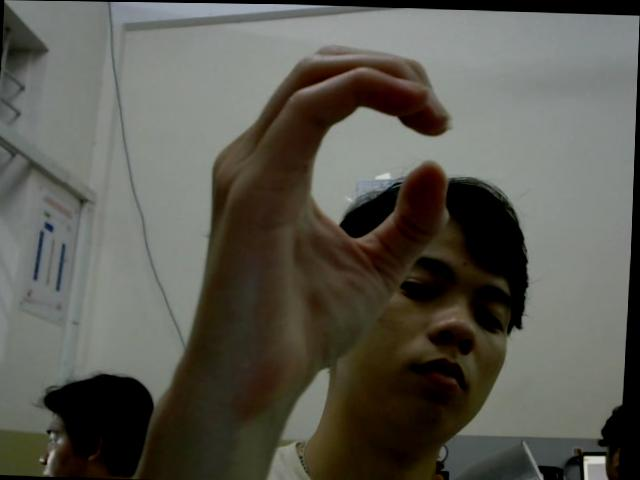C: (200, 37, 460, 401)
